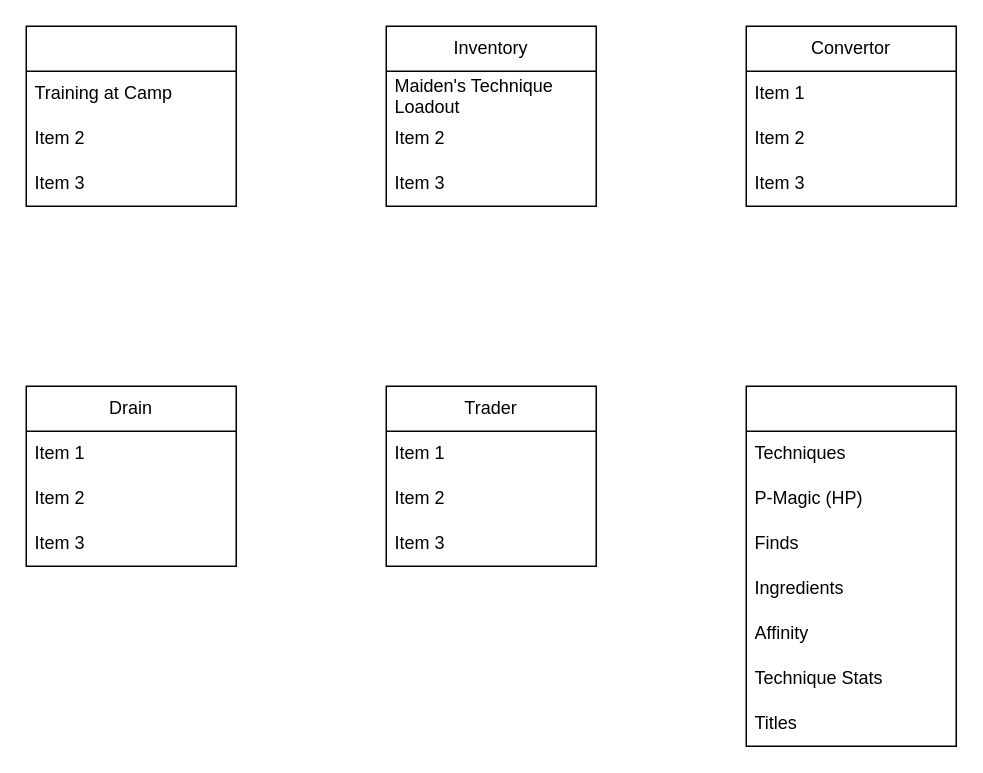
This 983x773 diagram has some shape labels left out. The box of each missing label's shape, as (x1, y1, x2, y2) in pixels:
Resources: (745, 385, 956, 746)
Tap: (25, 25, 236, 206)
